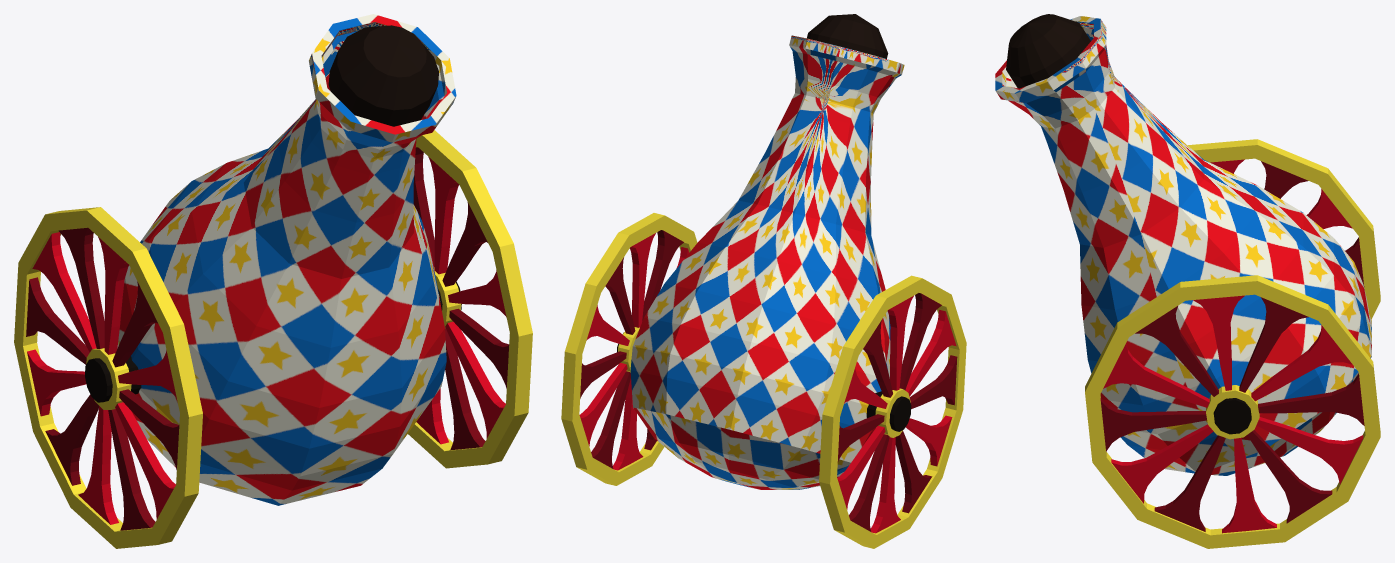
File: cannon fbx.fbx
3 renders of one model, left to right at view 1: azimuth 30°, elevation 25°; view 2: azimuth 150°, elevation 25°; view 3: azimuth 270°, elevation 25°, orthographic. The views are drawn at different scales.
Visible parts, largest first — view 1: cannon, wheel1, wheel2, wheel3, ball, middle; view 2: cannon, wheel1, wheel2, wheel3, ball, middle; view 3: cannon, wheel1, wheel2, wheel3, ball, middle.
Boxes of the visible parts, box(x1,y1,x2,y2) form: cannon: box(117, 14, 456, 505); wheel1: box(14, 130, 532, 548); wheel2: box(26, 147, 509, 530); wheel3: box(27, 157, 506, 524); ball: box(328, 25, 438, 126); middle: box(85, 281, 461, 402); cannon: box(630, 35, 904, 489); wheel1: box(561, 213, 966, 548); wheel2: box(580, 230, 957, 531); wheel3: box(579, 233, 956, 533); ball: box(807, 14, 888, 58); middle: box(617, 332, 911, 431); cannon: box(995, 16, 1371, 475); wheel1: box(1085, 139, 1380, 548); wheel2: box(1100, 161, 1364, 531); wheel3: box(1103, 159, 1363, 533); ball: box(1006, 14, 1090, 88); middle: box(1213, 398, 1251, 434).
Bounding box in the file's own units: 87.25 × 128 × 97.01.
